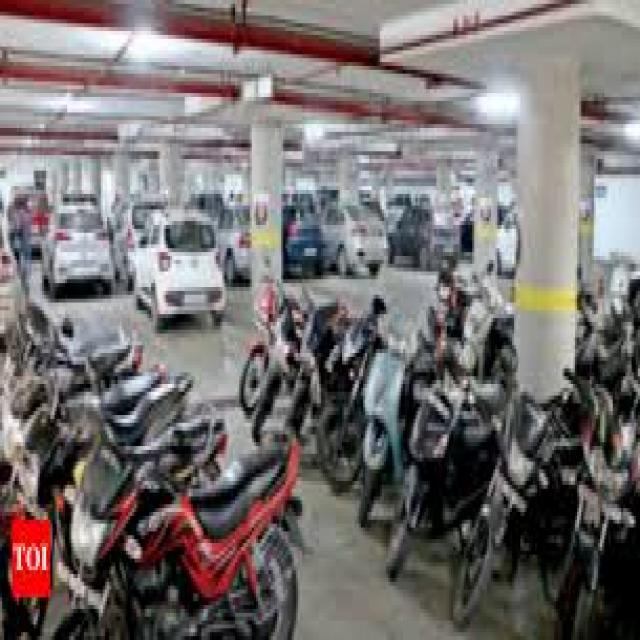No Parking: (264, 220, 615, 590)
